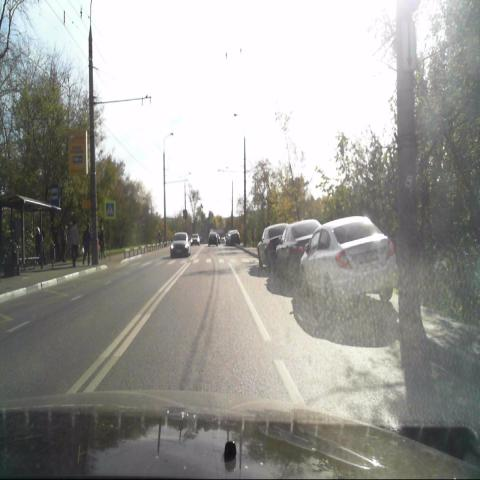8_2_3: (403, 16, 416, 72)
